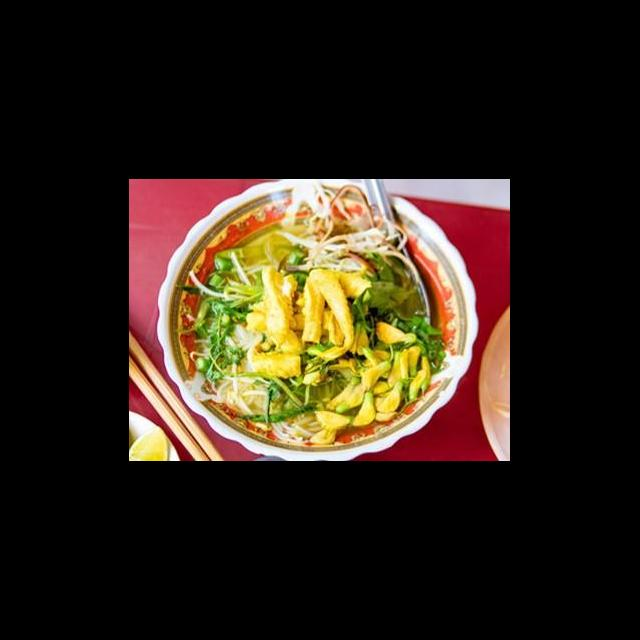bun: (206, 370, 326, 446)
bun ca: (157, 200, 478, 460)
ca: (298, 261, 358, 351), (252, 260, 300, 347), (248, 348, 304, 381)
rau ram: (346, 251, 448, 376)
